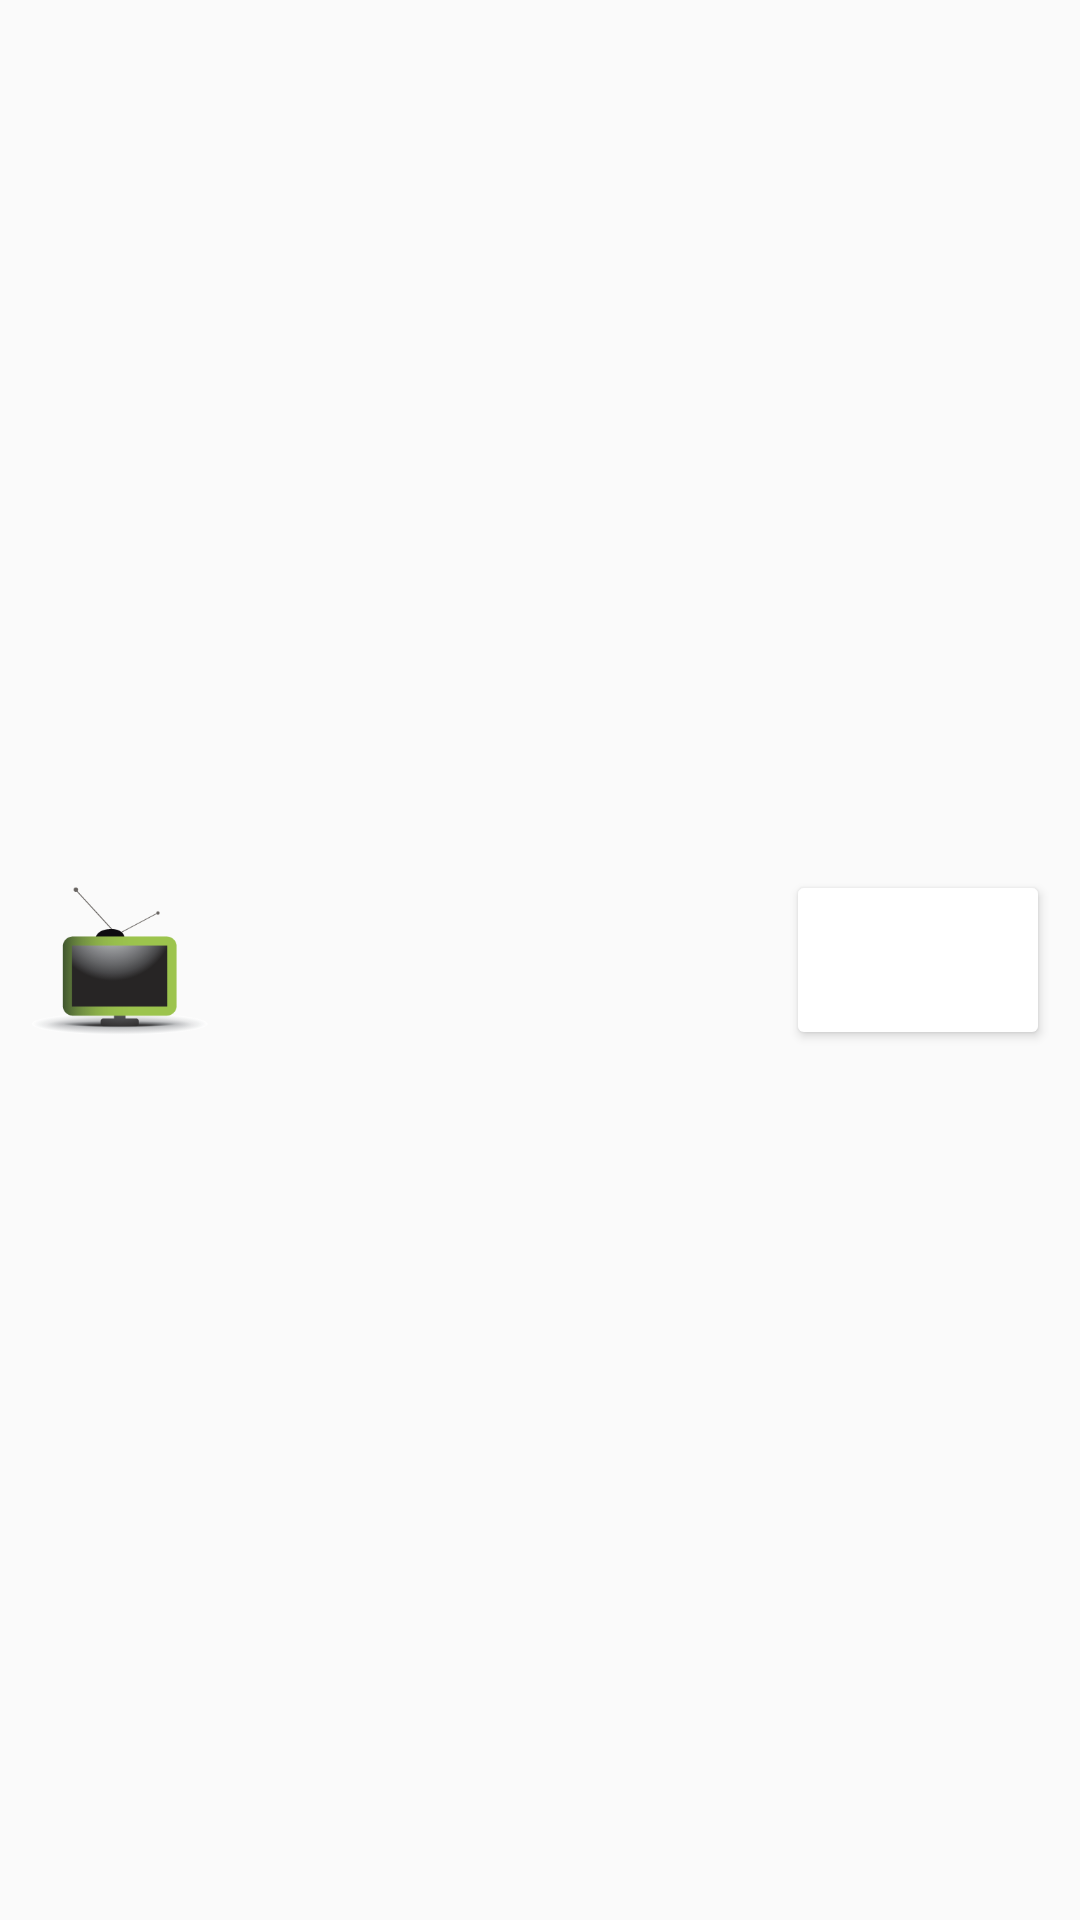

Named icons in this screenshot (1080px×1920px) and their centers, point (x, y):
tv show: point (120, 959)
